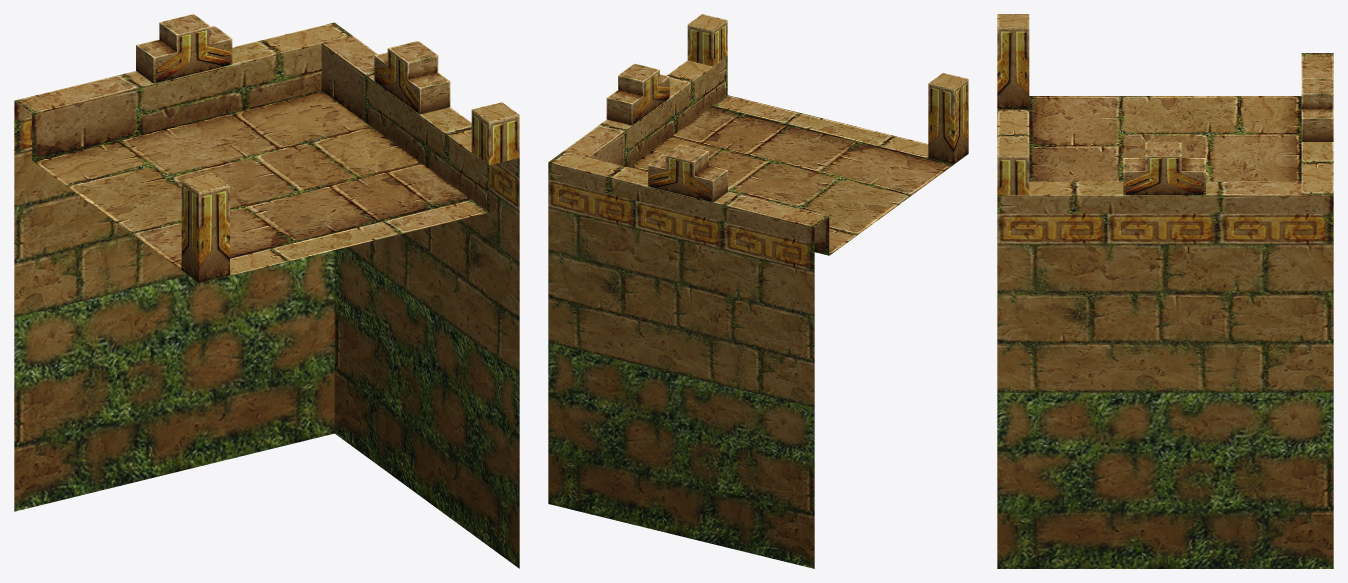
Rendered from TempleRoad07.FBX.
The picture shows the model from 3 angles, left to right: view 1: azimuth 30°, elevation 25°; view 2: azimuth 150°, elevation 25°; view 3: azimuth 270°, elevation 25°; orthographic projection. The views are drawn at different scales.
Visible parts, largest first — view 1: TempleRoad07; view 2: TempleRoad07; view 3: TempleRoad07.
Boxes of the visible parts, box(x1,y1,x2,y2) form: TempleRoad07: box(14, 14, 519, 568); TempleRoad07: box(548, 14, 968, 568); TempleRoad07: box(997, 14, 1333, 568).
Size of the model in its own units: 500 by 677 by 500.
